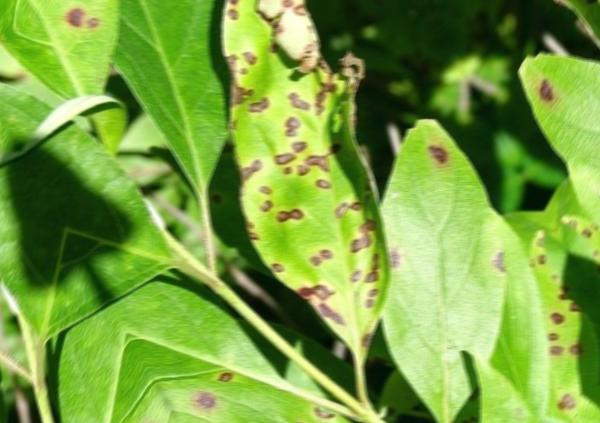Tomato leaf bacterial spot: (100, 0, 511, 389), (288, 87, 587, 423)
